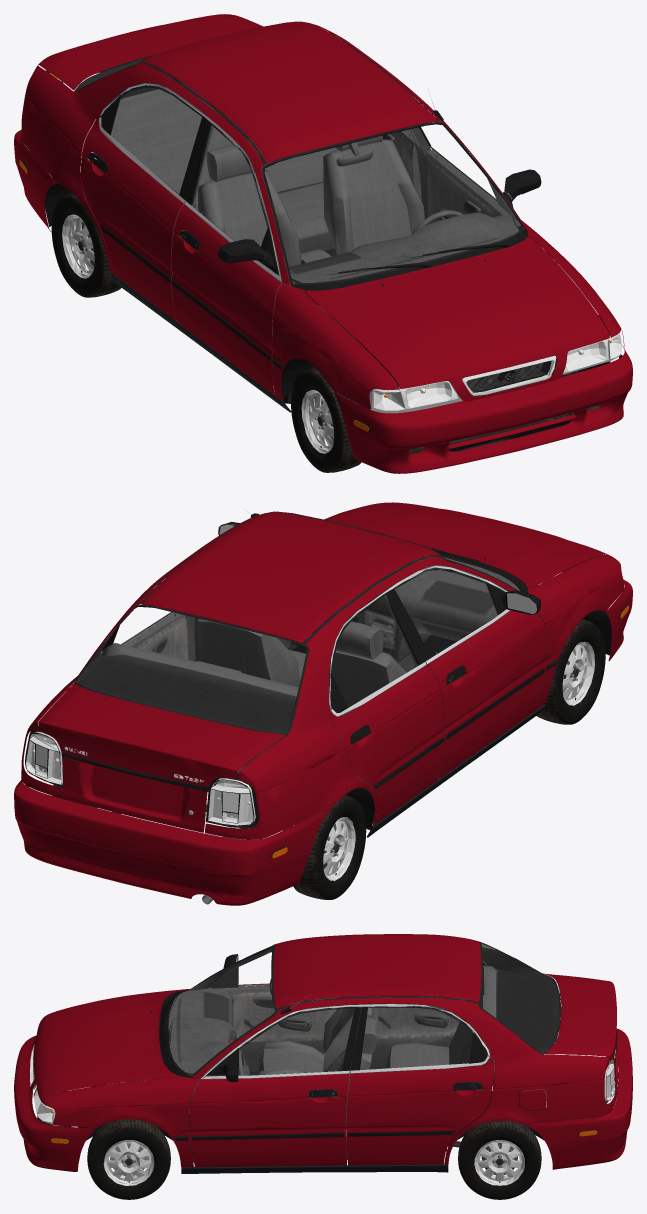
Rendered from baleno.glb.
3 views of the same model, one above another, from view 1: azimuth 30°, elevation 25°; view 2: azimuth 150°, elevation 25°; view 3: azimuth 270°, elevation 25° (orthographic). The views are drawn at different scales.
Visible parts, largest first — view 1: Object_0, Object_131, Object_10, Object_111, Object_91, Object_100, Object_127, Object_108, Object_6, Object_103; view 2: Object_0, Object_131, Object_10, Object_111, Object_91, Object_100, Object_127, Object_6, Object_144; view 3: Object_0, Object_131, Object_111, Object_10, Object_127, Object_91, Object_100, Object_6.
Boxes of the visible parts, x1,y1,x2,y2 form: Object_0: (14, 14, 632, 473); Object_131: (77, 58, 540, 383); Object_10: (20, 55, 621, 431); Object_111: (51, 190, 361, 472); Object_91: (57, 38, 622, 410); Object_100: (74, 22, 525, 285); Object_127: (62, 214, 333, 453); Object_108: (80, 172, 610, 453); Object_6: (111, 273, 291, 412); Object_103: (182, 235, 611, 397); Object_0: (14, 502, 632, 905); Object_131: (76, 555, 543, 823); Object_10: (25, 513, 627, 858); Object_111: (52, 619, 605, 899); Object_91: (26, 508, 509, 825); Object_100: (74, 511, 521, 735); Object_127: (87, 642, 594, 880); Object_6: (366, 704, 545, 837); Object_144: (219, 524, 536, 613); Object_0: (14, 934, 632, 1171); Object_131: (168, 943, 559, 1162); Object_111: (87, 1078, 541, 1199); Object_10: (33, 954, 617, 1147); Object_127: (103, 1079, 524, 1185); Object_91: (30, 961, 615, 1122); Object_100: (166, 934, 561, 1077); Object_6: (181, 1164, 448, 1173).
Bounding box in the file's own units: 3.97 × 3 × 8.6.
17 materials, 8 textured.
